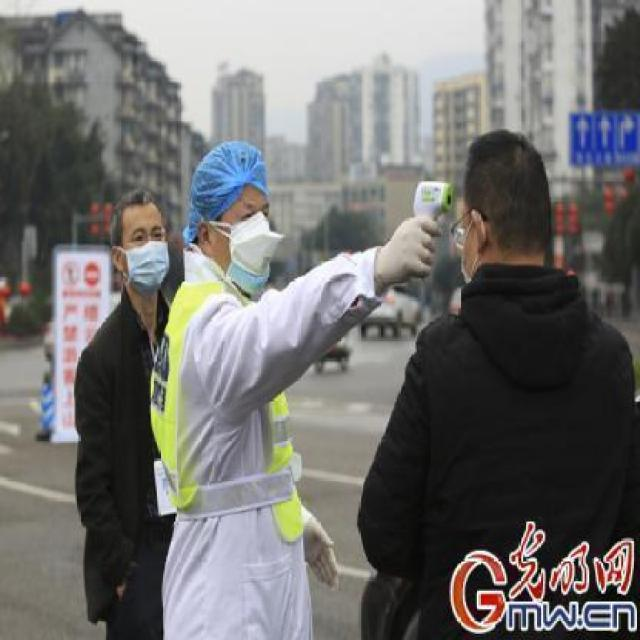face_mask: (212, 194, 290, 275), (123, 232, 179, 291)
hand_glove: (366, 212, 446, 296), (299, 512, 343, 596)
head_nohelmet: (446, 134, 559, 194), (188, 134, 278, 198), (109, 194, 162, 223)
person: (381, 124, 640, 640), (164, 124, 400, 640), (78, 194, 182, 640)
